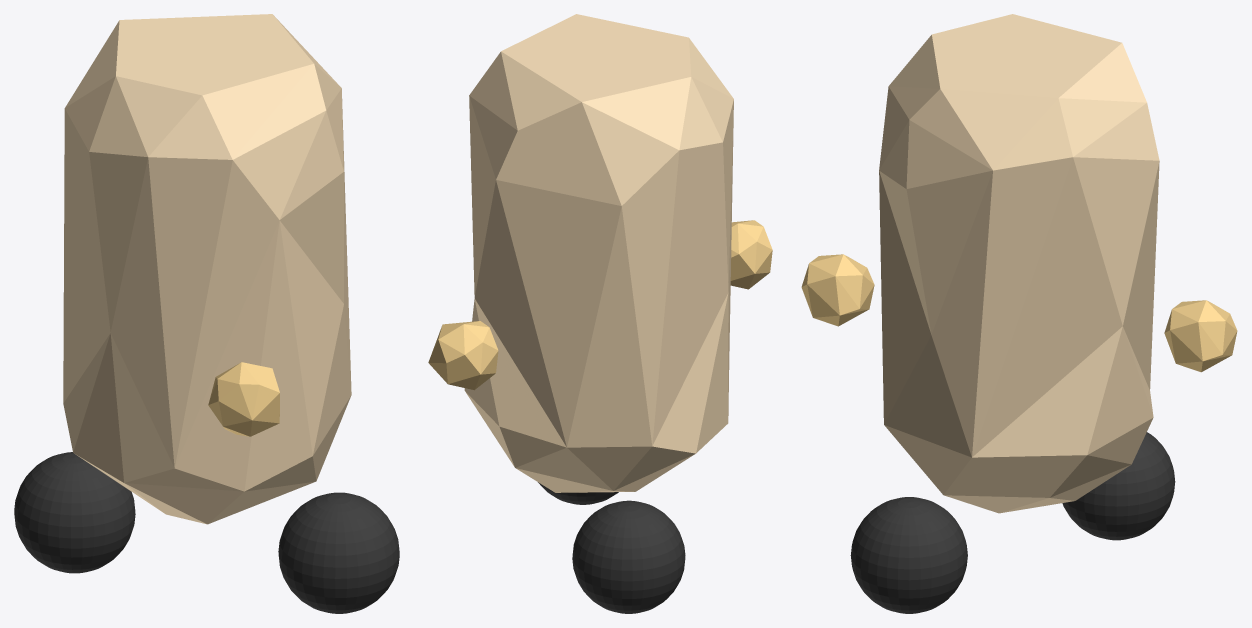
File: personaje.glb
3 renders of one model, left to right at view 1: azimuth 30°, elevation 25°; view 2: azimuth 150°, elevation 25°; view 3: azimuth 270°, elevation 25°, orthographic. The views are drawn at different scales.
Parts seen in each view (by area): view 1: body, feetleft, feetright, handright; view 2: body, feetright, handleft, handright, feetleft; view 3: body, feetleft, feetright, handright, handleft.
Part boxes in pixels (x1,y1,x2,y2): body: [63, 14, 351, 524]; feetleft: [278, 492, 399, 613]; feetright: [14, 452, 135, 573]; handright: [208, 362, 279, 436]; body: [464, 14, 733, 492]; feetright: [572, 500, 685, 613]; handleft: [428, 321, 498, 390]; handright: [730, 220, 772, 289]; feetleft: [538, 482, 618, 504]; body: [879, 14, 1159, 513]; feetleft: [850, 497, 967, 613]; feetright: [1062, 432, 1175, 540]; handright: [801, 254, 874, 326]; handleft: [1164, 300, 1237, 372].
Bounding box in the file's own units: 1.67 × 3.25 × 2.49.
